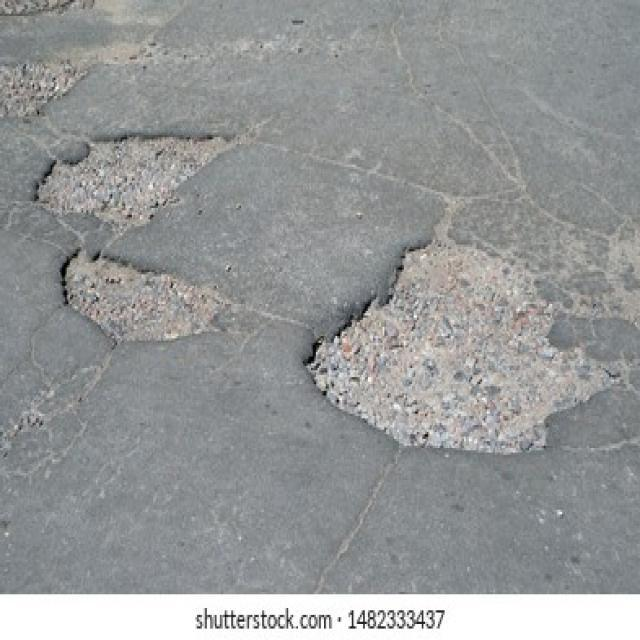Pothole: (302, 229, 612, 457), (31, 132, 233, 238), (60, 247, 228, 346), (0, 52, 91, 119)
